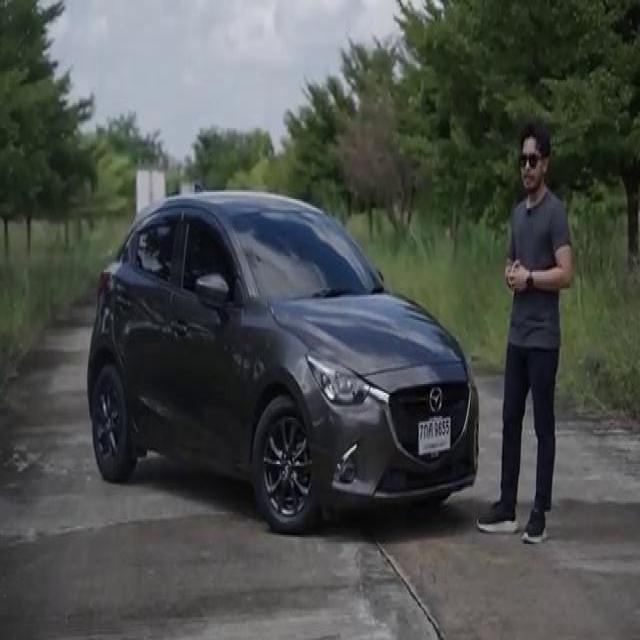Hatchback: (88, 190, 478, 532)
